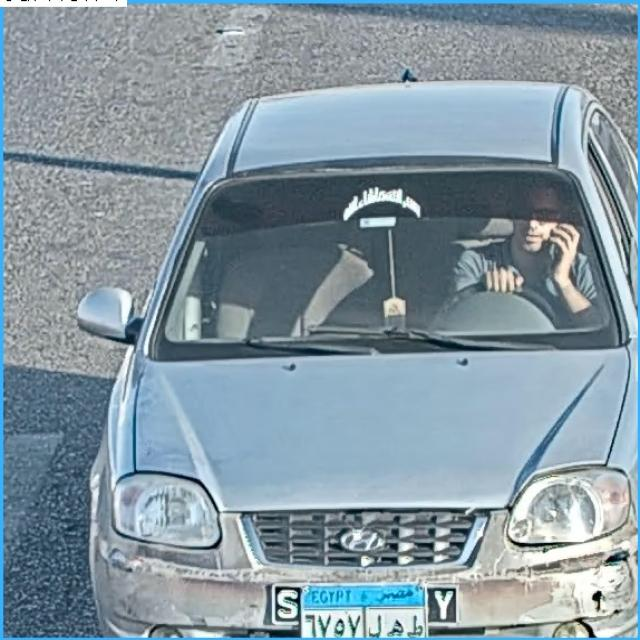windshield: (158, 173, 620, 344)
